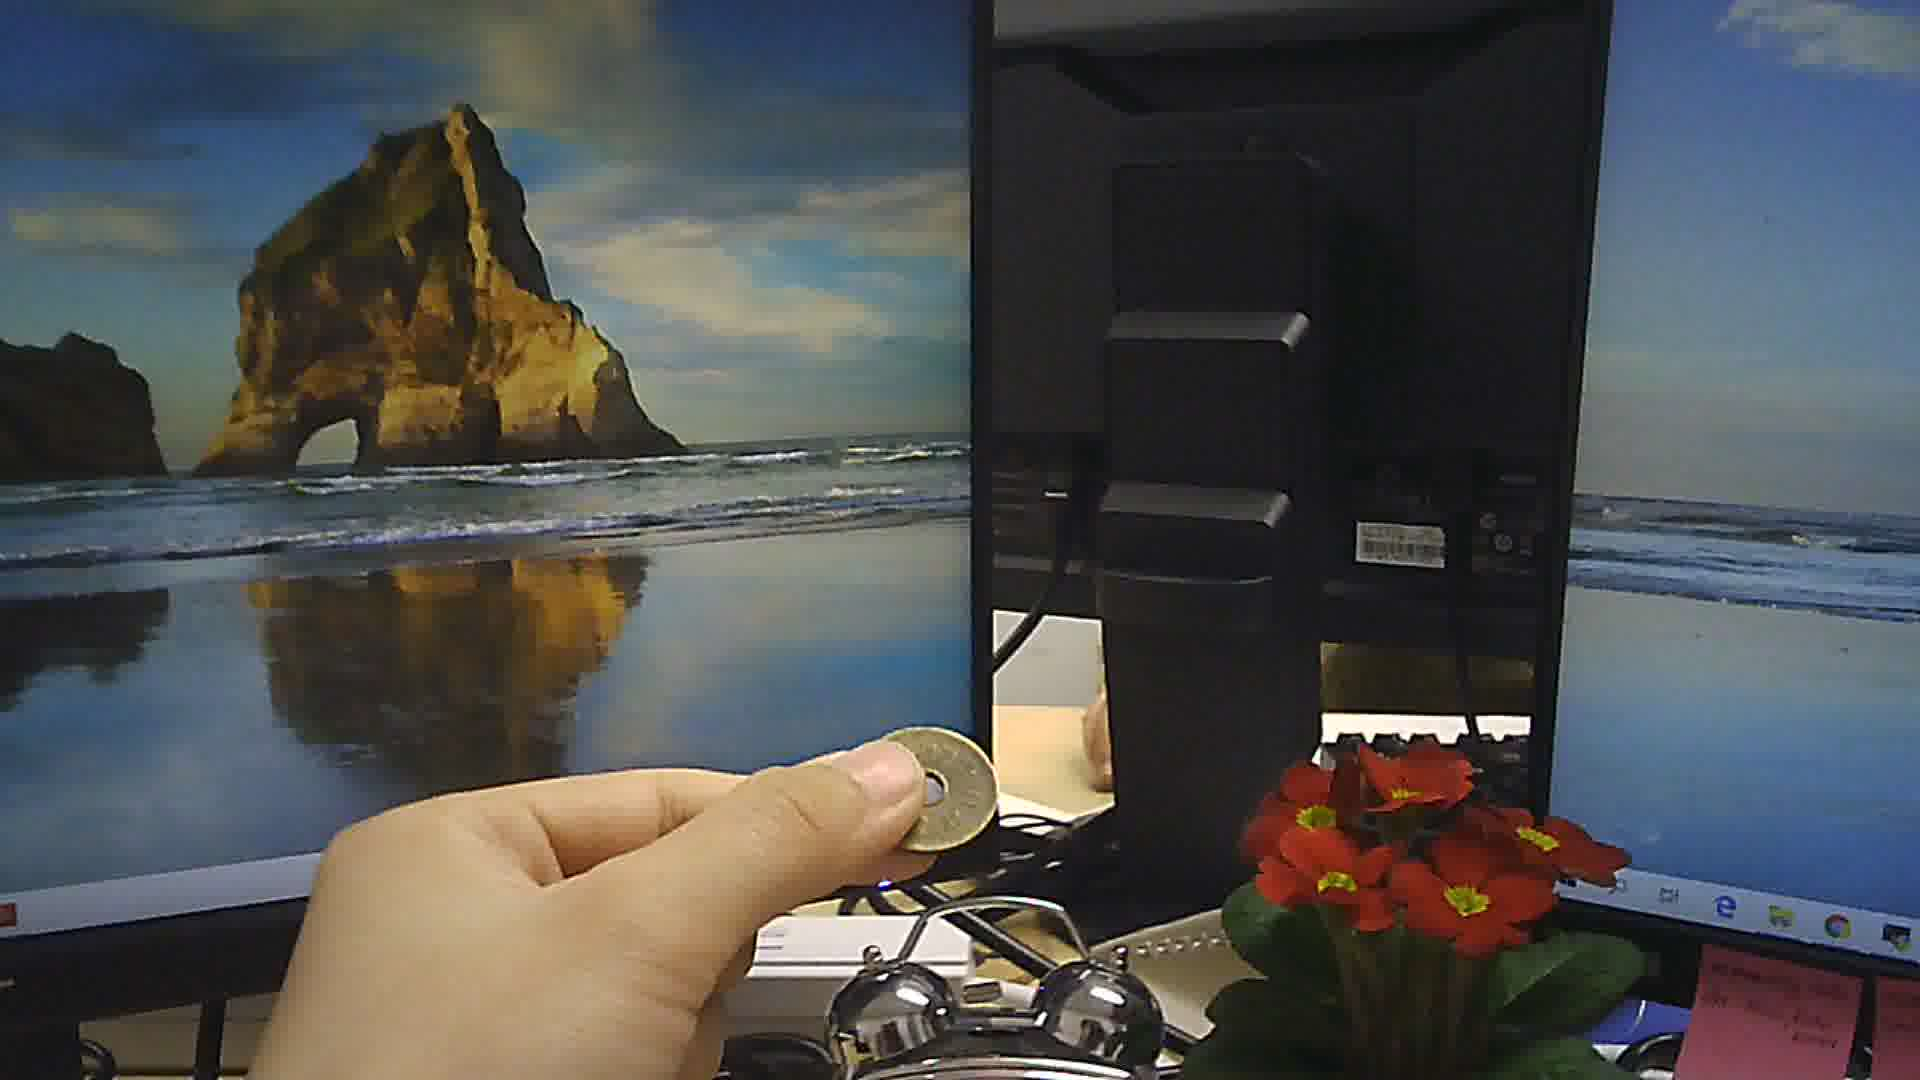5 Yen: (865, 723, 1000, 857)
